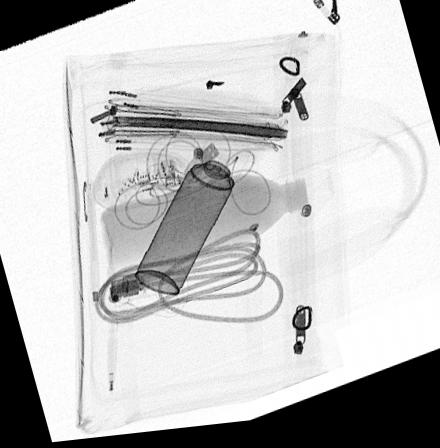Sprayer: (133, 132, 252, 300)
